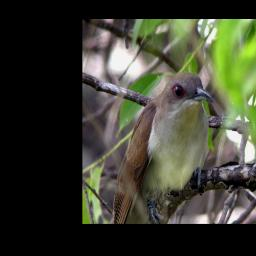Cuckoo: (113, 72, 214, 224)
